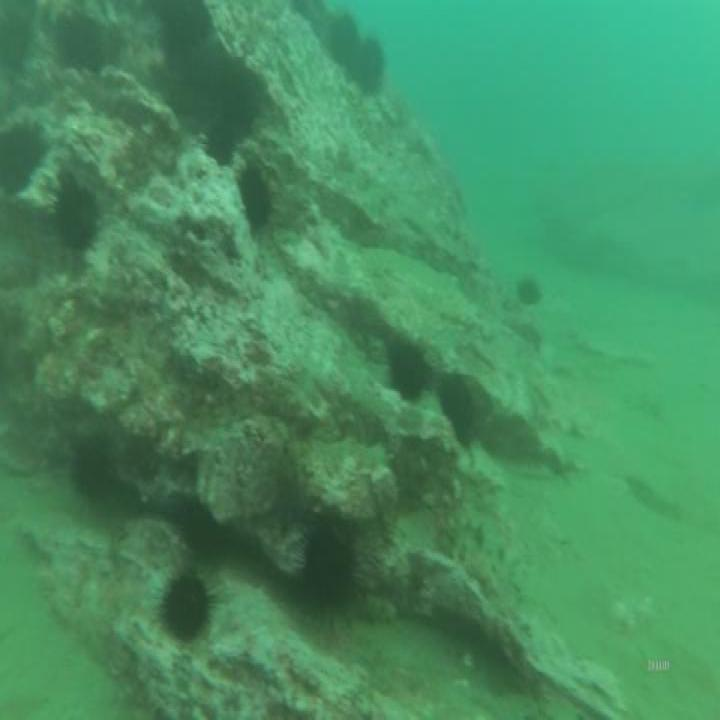echinus: (296, 503, 359, 629), (41, 169, 105, 261), (381, 327, 432, 413), (159, 560, 209, 647), (436, 363, 482, 455), (234, 156, 282, 242), (68, 430, 114, 507), (354, 30, 392, 102), (320, 7, 358, 78), (198, 116, 240, 174)
